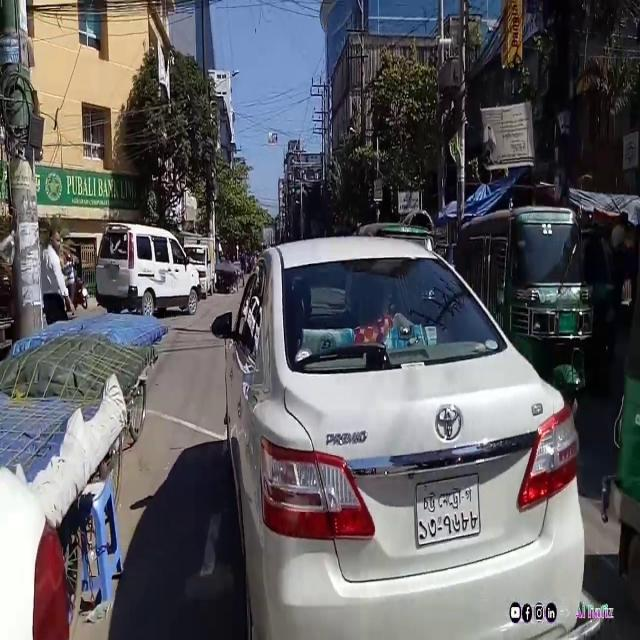white: (225, 244, 603, 640), (99, 218, 199, 322)
